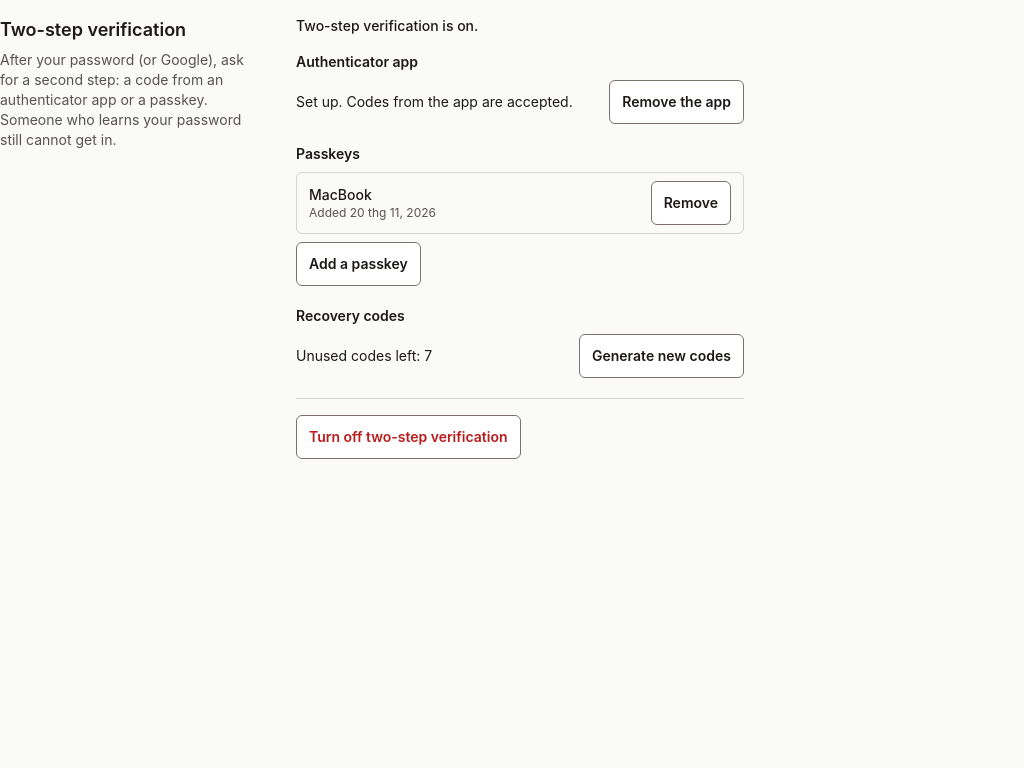
it: TwoStep › makes new recovery codes after a confirmation
expect the heading "Two-step verification" is shown: met, box [0,19,186,40]
Click the button "Generate new codes".
click(662, 356)  # box [579,334,744,378]
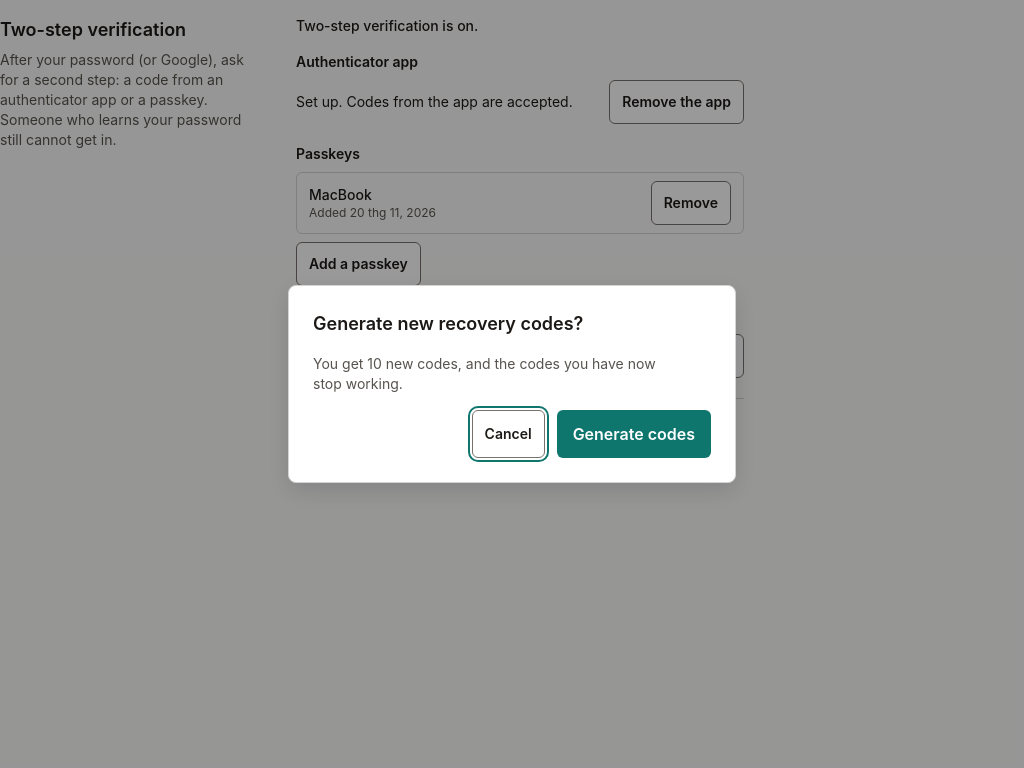
Click the button "Generate codes".
click(634, 434)  # box [557,410,711,458]
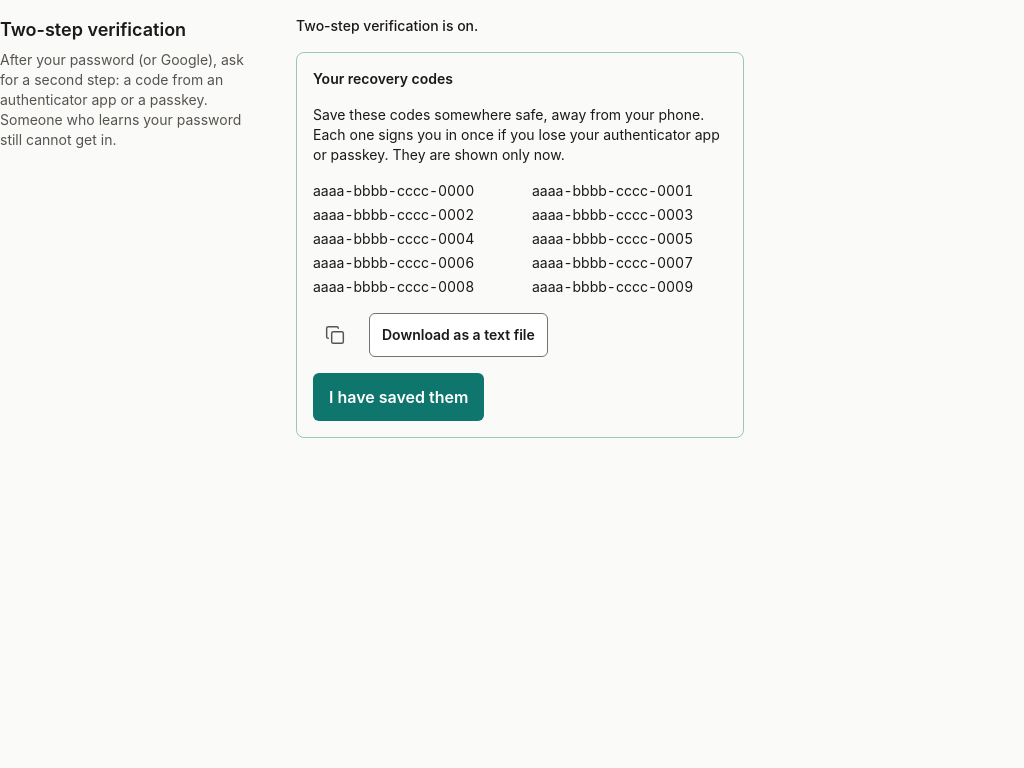
expect the number of list items is 10: met
